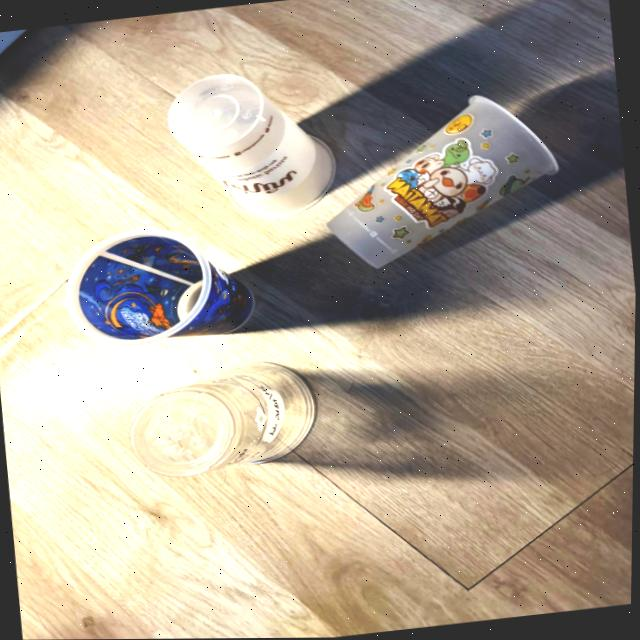Plastic Cup: (329, 97, 559, 268), (168, 74, 336, 217), (68, 230, 255, 345), (131, 362, 316, 476)
